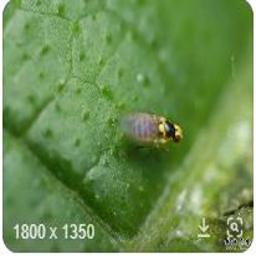liriomyza: (117, 110, 184, 160)
